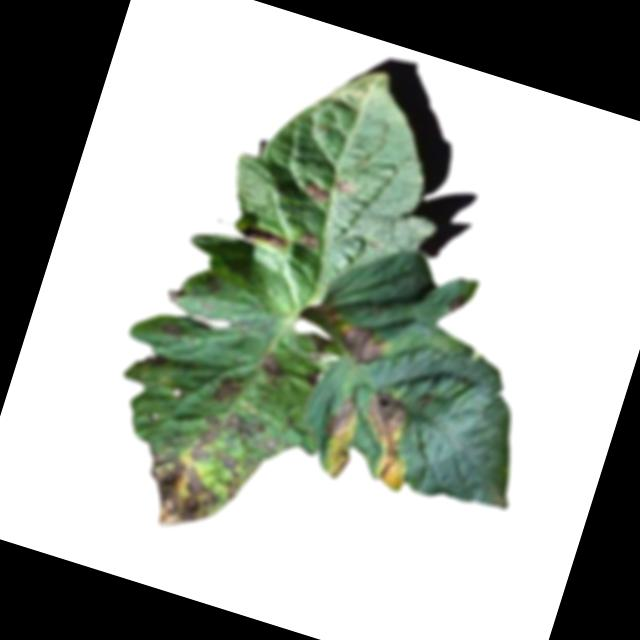Early_blight: (346, 383, 428, 488), (131, 449, 226, 539), (330, 318, 389, 368), (321, 390, 363, 441), (187, 411, 223, 465), (219, 409, 265, 449), (210, 452, 248, 499), (206, 365, 247, 407), (239, 219, 291, 251), (252, 350, 290, 386), (322, 441, 353, 481), (149, 316, 188, 343), (300, 177, 333, 205), (256, 428, 282, 459), (298, 226, 326, 252), (333, 175, 357, 195)
